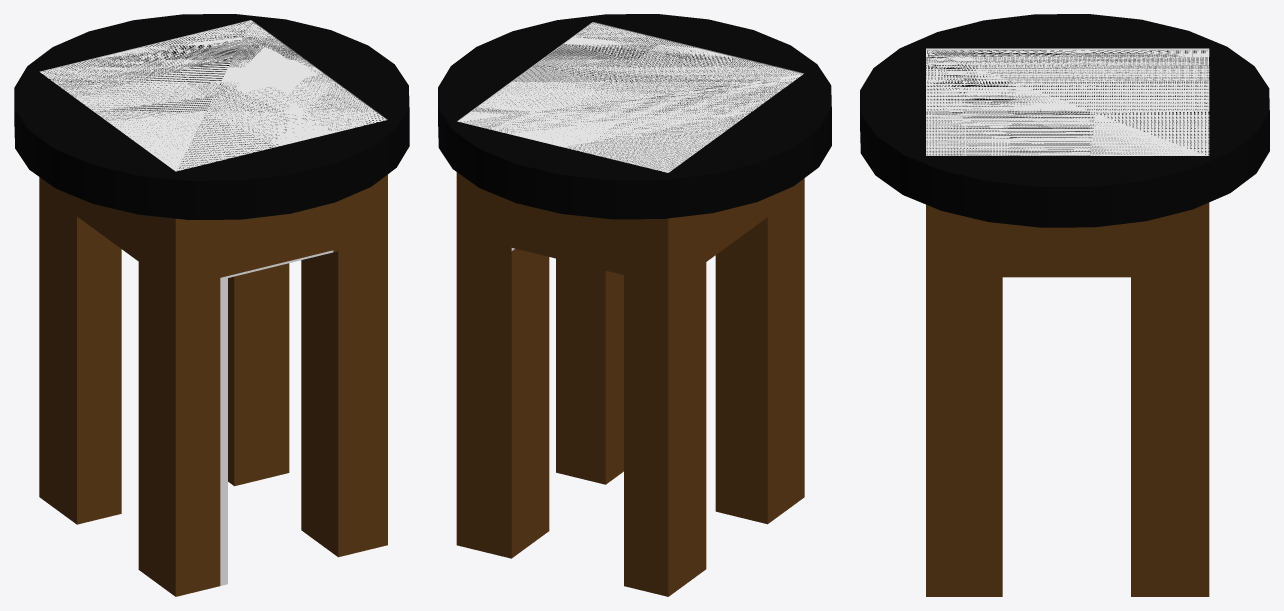
Rendered from stool.dae.
3 renders of one model, left to right at view 1: azimuth 30°, elevation 25°; view 2: azimuth 150°, elevation 25°; view 3: azimuth 270°, elevation 25°, orthographic. The views are drawn at different scales.
Visible parts, largest first — view 1: SketchUp (×5); view 2: SketchUp (×4); view 3: SketchUp (×4).
Boxes of the visible parts, x1,y1,x2,y2 form: SketchUp (×5): (14,14,409,596); SketchUp (×4): (438,14,831,596); SketchUp (×4): (860,14,1269,596).
Size of the model in its own units: 148 by 148 by 176.
